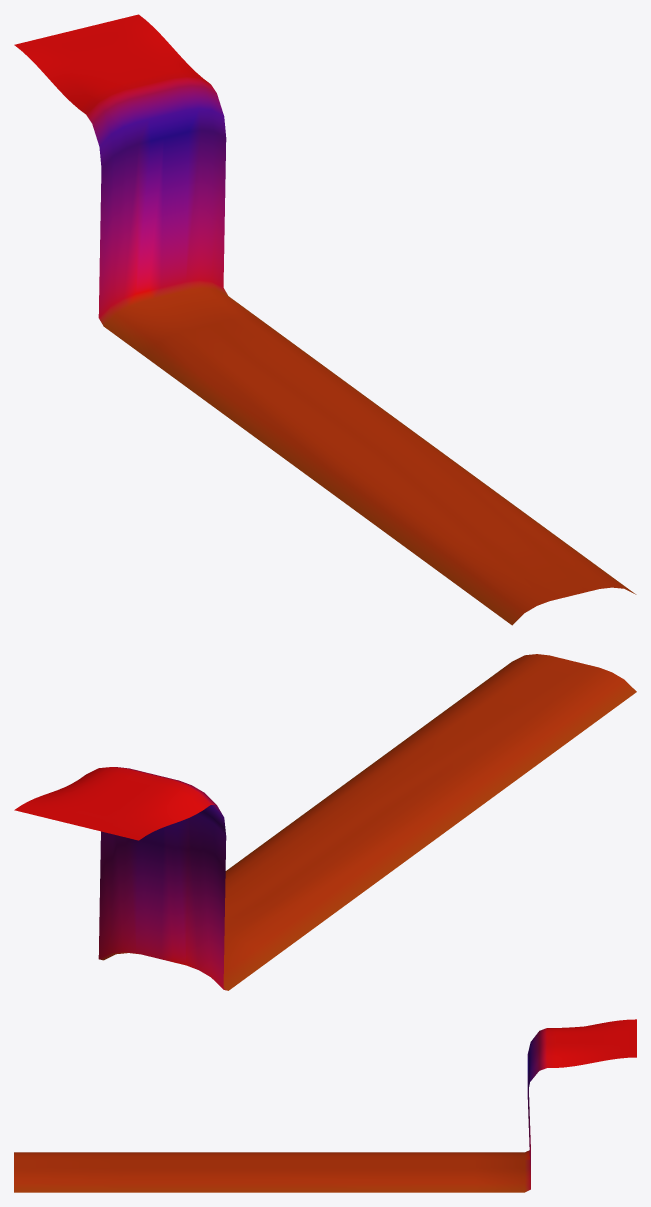
Rendered from MywaterFall.fbx.
3 renders of one model, top to bottom at view 1: azimuth 30°, elevation 25°; view 2: azimuth 150°, elevation 25°; view 3: azimuth 270°, elevation 25°, orthographic. The views are drawn at different scales.
Visible parts, largest first — view 1: pPlane1; view 2: pPlane1; view 3: pPlane1.
Boxes of the visible parts, <box> form: pPlane1: <box>14,14,636,625</box>; pPlane1: <box>14,654,636,990</box>; pPlane1: <box>14,1019,636,1192</box>.
Bounding box in the file's own units: 1 × 1.65 × 6.91.
